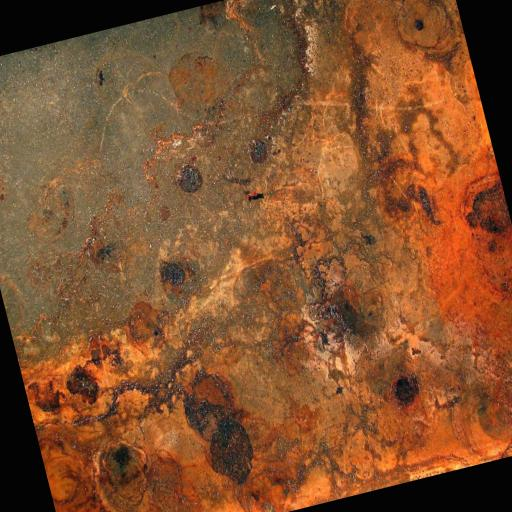segmentation: (0, 0, 512, 512)
